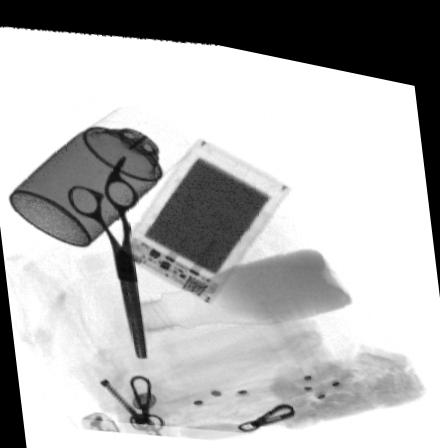Powerbank: (117, 124, 292, 297)
Scissors: (65, 148, 146, 355)
Sprayer: (7, 96, 191, 245)
